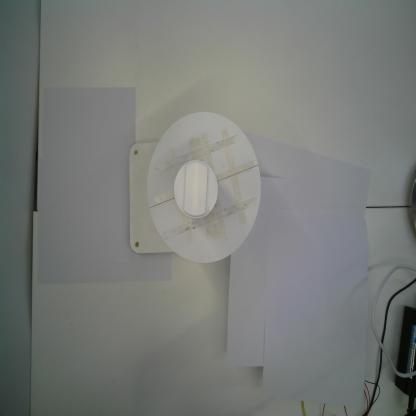Canned Food: (173, 160, 218, 219)
